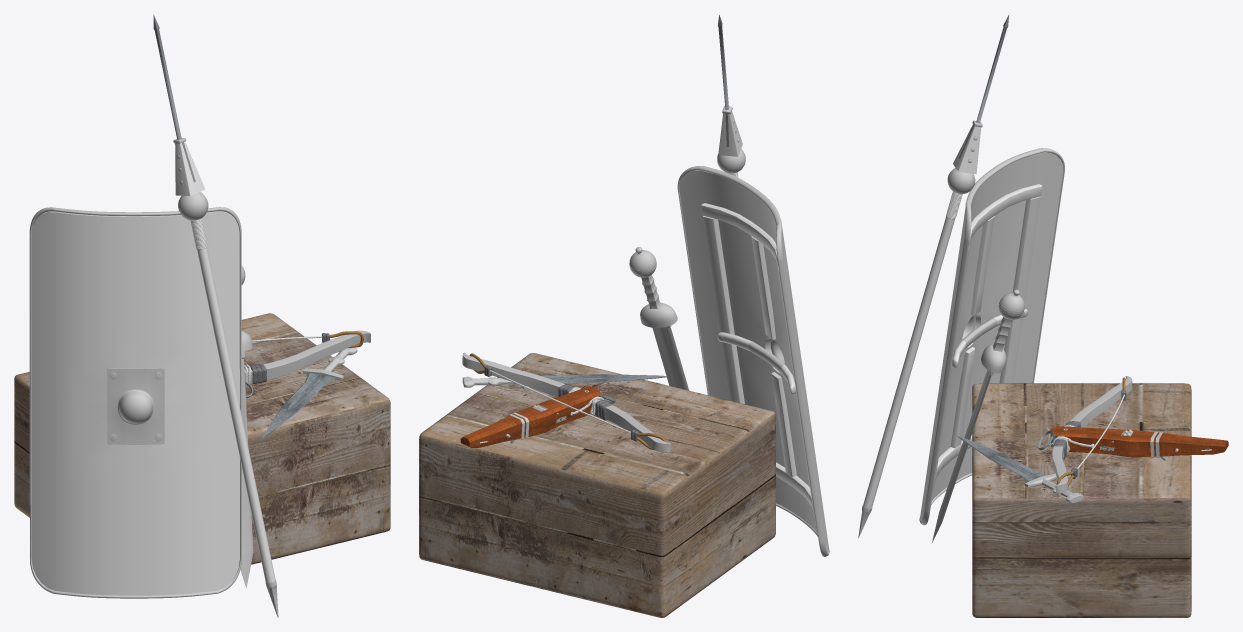
The model's file is roman armory.fbx.
The picture shows the model from 3 angles, left to right: view 1: azimuth 30°, elevation 25°; view 2: azimuth 150°, elevation 25°; view 3: azimuth 270°, elevation 25°; orthographic projection. The views are drawn at different scales.
Visible parts, largest first — view 1: Plane.001, Cube.006, Cube.003, Cylinder.001, Plane.002, Cube.007, Cube.001, Cube.002, Cube.004, Cube.005, Sphere.003, Circle.001; view 2: Cube.006, Plane.001, Plane.003, Plane.002, Cube.008, Cube.007, Cube.001, Plane.004, Cube.002, Cube.004, Sphere.001, Sphere (+1 smaller); view 3: Cube.006, Plane.001, Plane.003, Cube.008, Plane.002, Cylinder.001, Cube.007, Cube.001, Cube.002, Cube.004, Plane.004, Cube.005 (+4 smaller).
Boxes of the visible parts, x1,y1,x2,y2 form: Plane.001: (31,211,239,595); Cube.006: (14,313,390,564); Cube.003: (107,368,164,444); Cylinder.001: (196,238,275,582); Plane.002: (29,207,241,598); Cube.007: (244,330,370,383); Cube.001: (240,351,253,588); Cube.002: (262,373,335,438); Cube.004: (175,141,205,195); Cube.005: (153,14,195,182); Sphere.003: (178,192,208,220); Circle.001: (303,347,357,380); Cube.006: (419,353,775,617); Plane.001: (679,170,828,552); Plane.003: (701,203,815,517); Plane.002: (677,166,829,556); Cube.008: (460,386,600,447); Cube.007: (462,352,670,452); Cube.001: (652,325,689,390); Plane.004: (717,332,796,393); Cube.002: (540,374,666,383); Cube.004: (718,111,742,156); Sphere.001: (640,302,677,327); Sphere: (629,250,656,277); Cube.006: (972,383,1191,617); Plane.001: (920,152,1063,520); Plane.003: (933,184,1042,486); Cube.008: (1050,426,1228,457); Plane.002: (919,148,1064,525); Cylinder.001: (863,216,954,508); Cube.007: (1052,376,1132,493); Cube.001: (932,370,993,542); Cube.002: (956,435,1047,481); Cube.004: (953,124,981,174); Plane.004: (952,309,1027,367); Cube.005: (959,14,1009,158).
Bounding box in the file's own units: 541 × 798 × 527.
